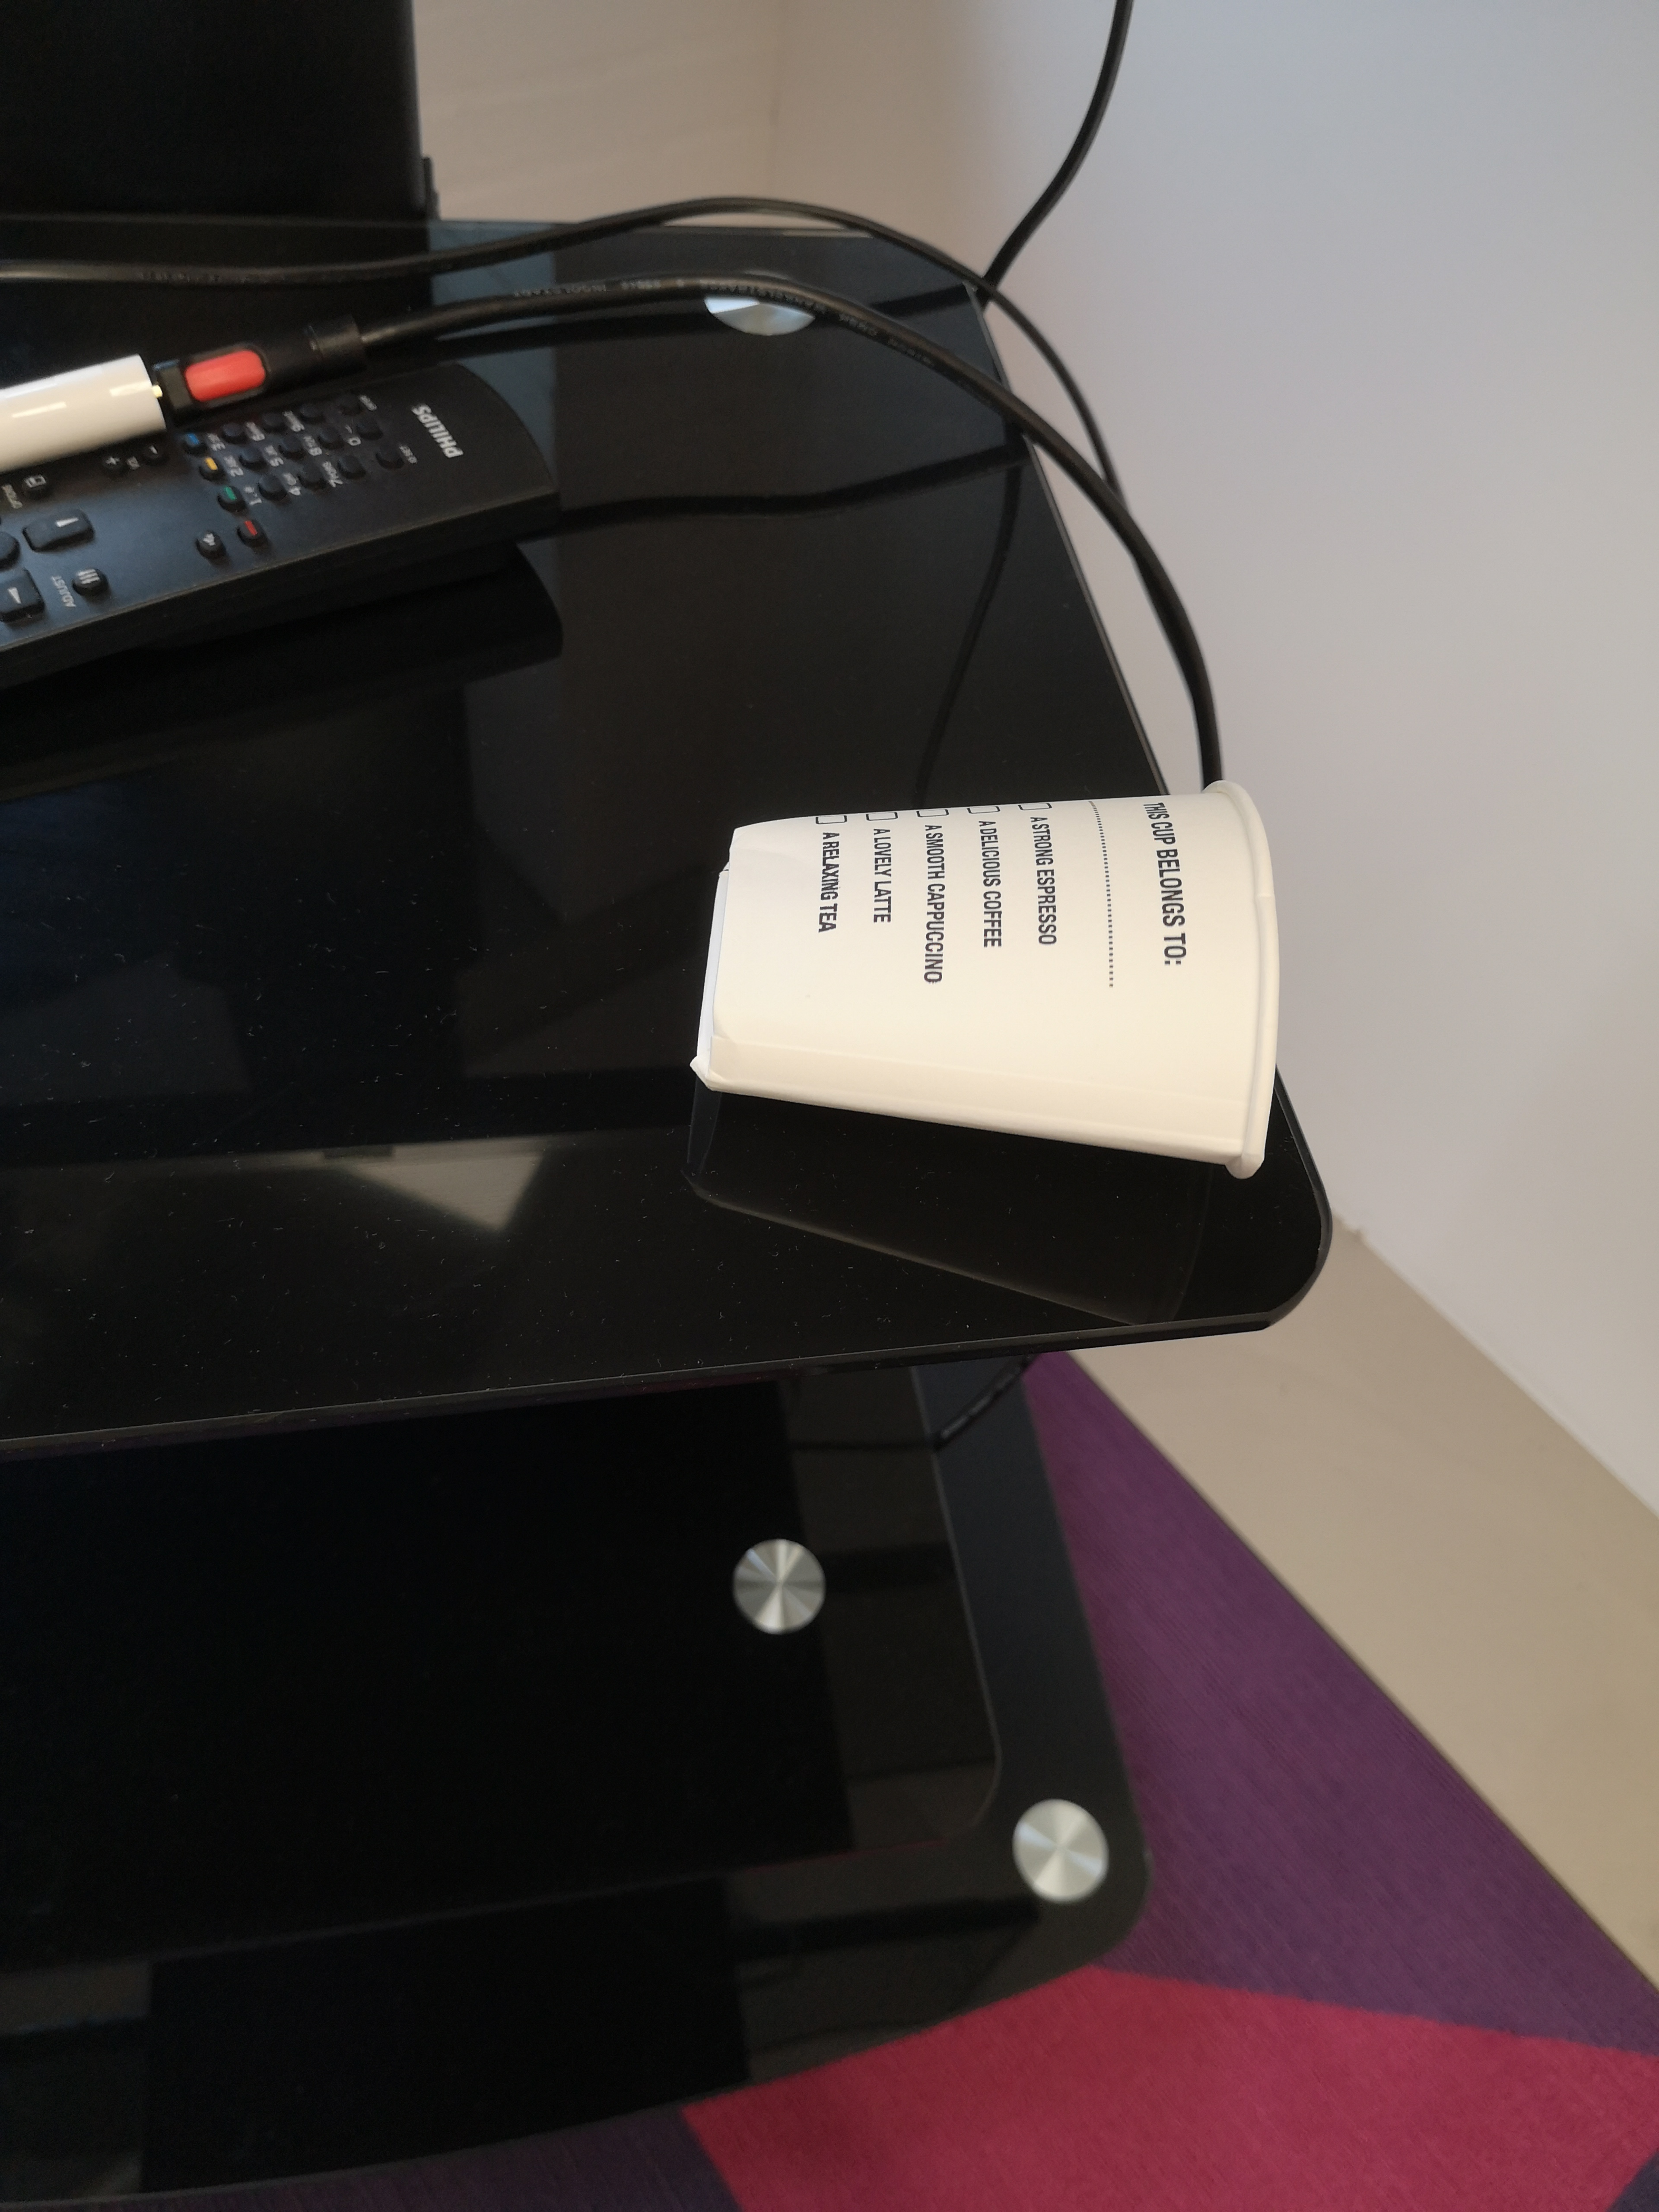cup: (652, 770, 1309, 1207)
